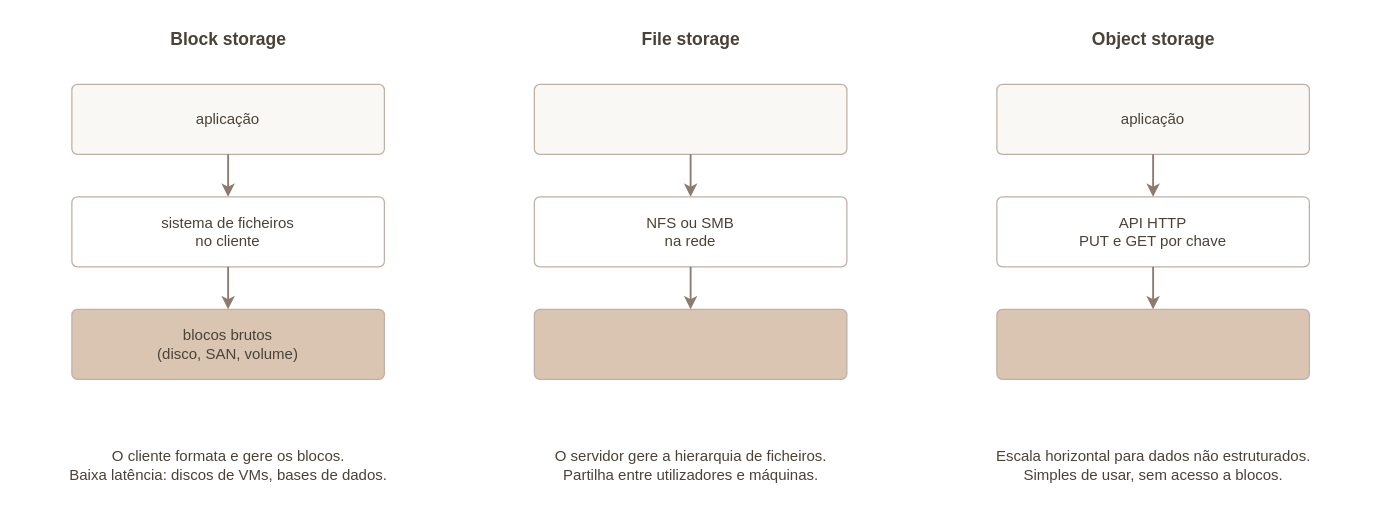
Some shapes in this 1380 by 530 pixel diagram are drawn without their labels. Here are the shapes that lost their labels. From the top down, the centre of each, then its label:
At (690,118): "clientes".
At (690,343): "servidor com sistema de ficheiros e pastas".
At (1152,343): "objetos e metadados sem pastas reais".
